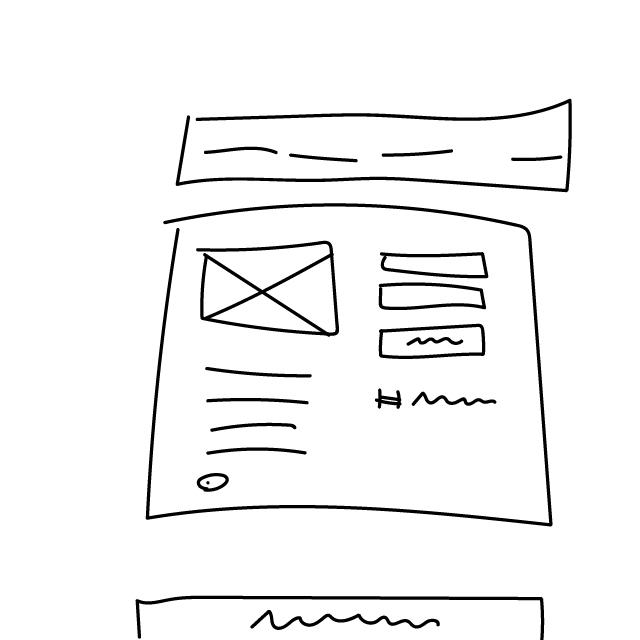button: (373, 323, 490, 363)
checkbox: (196, 473, 235, 495)
container: (134, 200, 570, 538)
footer: (130, 580, 550, 640)
frame: (194, 240, 350, 342)
heading: (376, 377, 501, 421)
input: (376, 278, 489, 313), (378, 248, 490, 281)
nav: (170, 96, 582, 196)
text: (199, 361, 325, 463)
